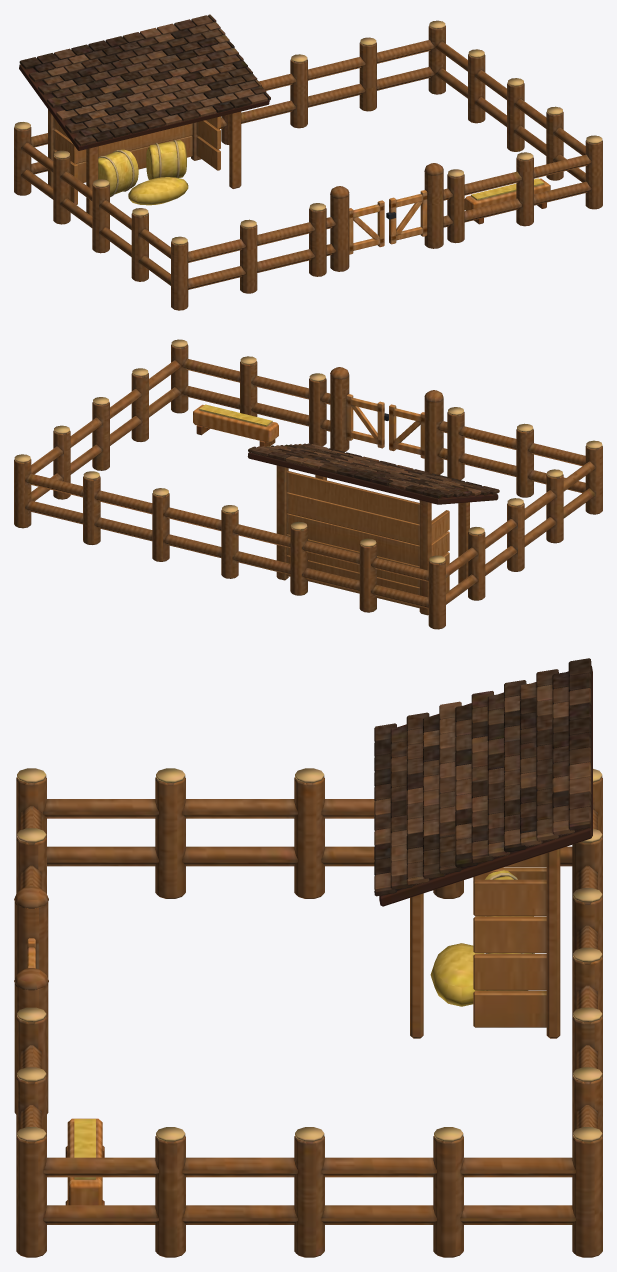
File: bison_range.glb
3 renders of one model, top to bottom at view 1: azimuth 30°, elevation 25°; view 2: azimuth 150°, elevation 25°; view 3: azimuth 270°, elevation 25°, orthographic. The views are drawn at different scales.
Parts seen in each view (by area): view 1: bison_range, gate1, gate0; view 2: bison_range, gate1, gate0; view 3: bison_range.
Boxes of the visible parts, left/top/right/bottom form: bison_range: left=14, top=14, right=602, bottom=310; gate1: left=386, top=190, right=427, bottom=244; gate0: left=349, top=200, right=384, bottom=254; bison_range: left=14, top=339, right=602, bottom=629; gate1: left=346, top=394, right=388, bottom=448; gate0: left=389, top=404, right=424, bottom=458; bison_range: left=14, top=658, right=602, bottom=1257.
Bounding box in the file's own units: 3 × 0.9342 × 2.01.
1 material, 1 textured.
